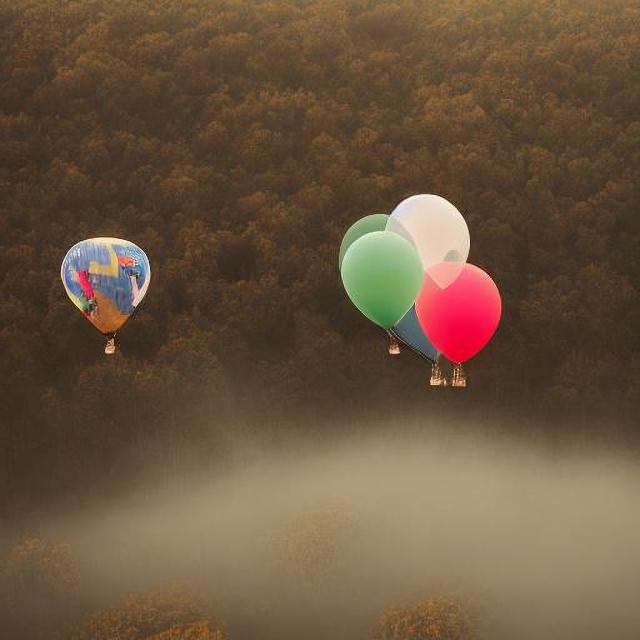balloon: (337, 188, 501, 362), (408, 259, 504, 365), (58, 235, 150, 345)
